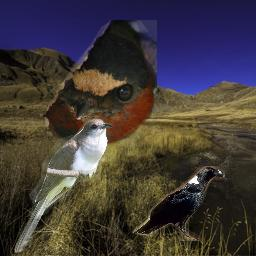Crow: (132, 166, 225, 241)
Cuckoo: (13, 118, 112, 253)
Swallow: (45, 20, 157, 147)
